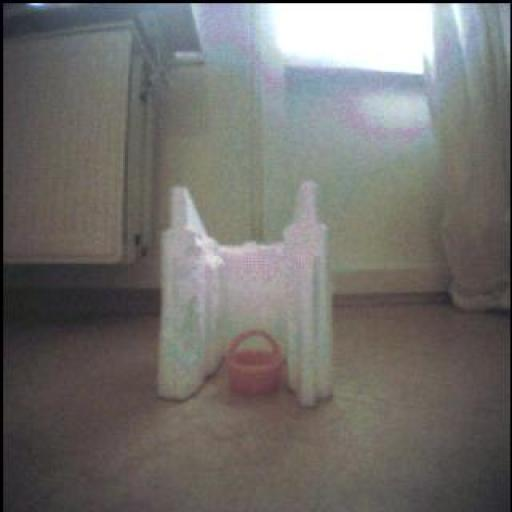Basket: (227, 331, 284, 396)
